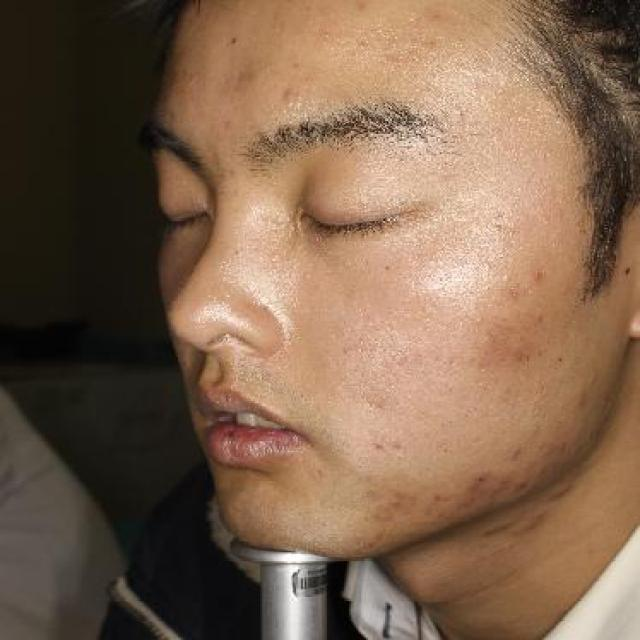dark spot: (453, 464, 498, 502), (368, 428, 409, 460), (505, 470, 537, 496), (505, 437, 527, 465), (530, 263, 550, 285)
nodules: (538, 472, 586, 514), (503, 504, 555, 542), (476, 514, 522, 541)
